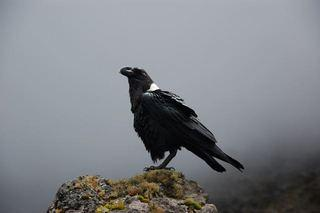bird: (118, 63, 246, 180)
